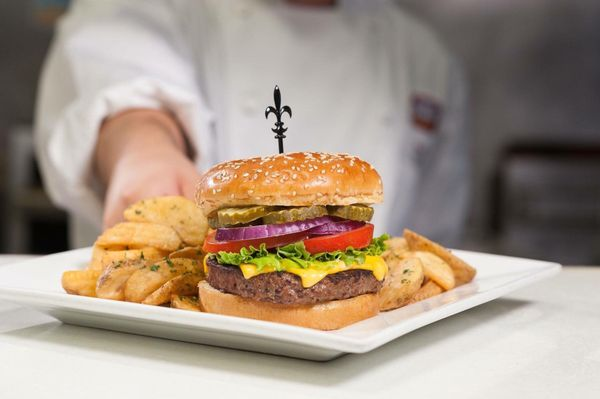soup: (195, 152, 393, 332), (61, 194, 211, 307), (64, 221, 197, 306)
